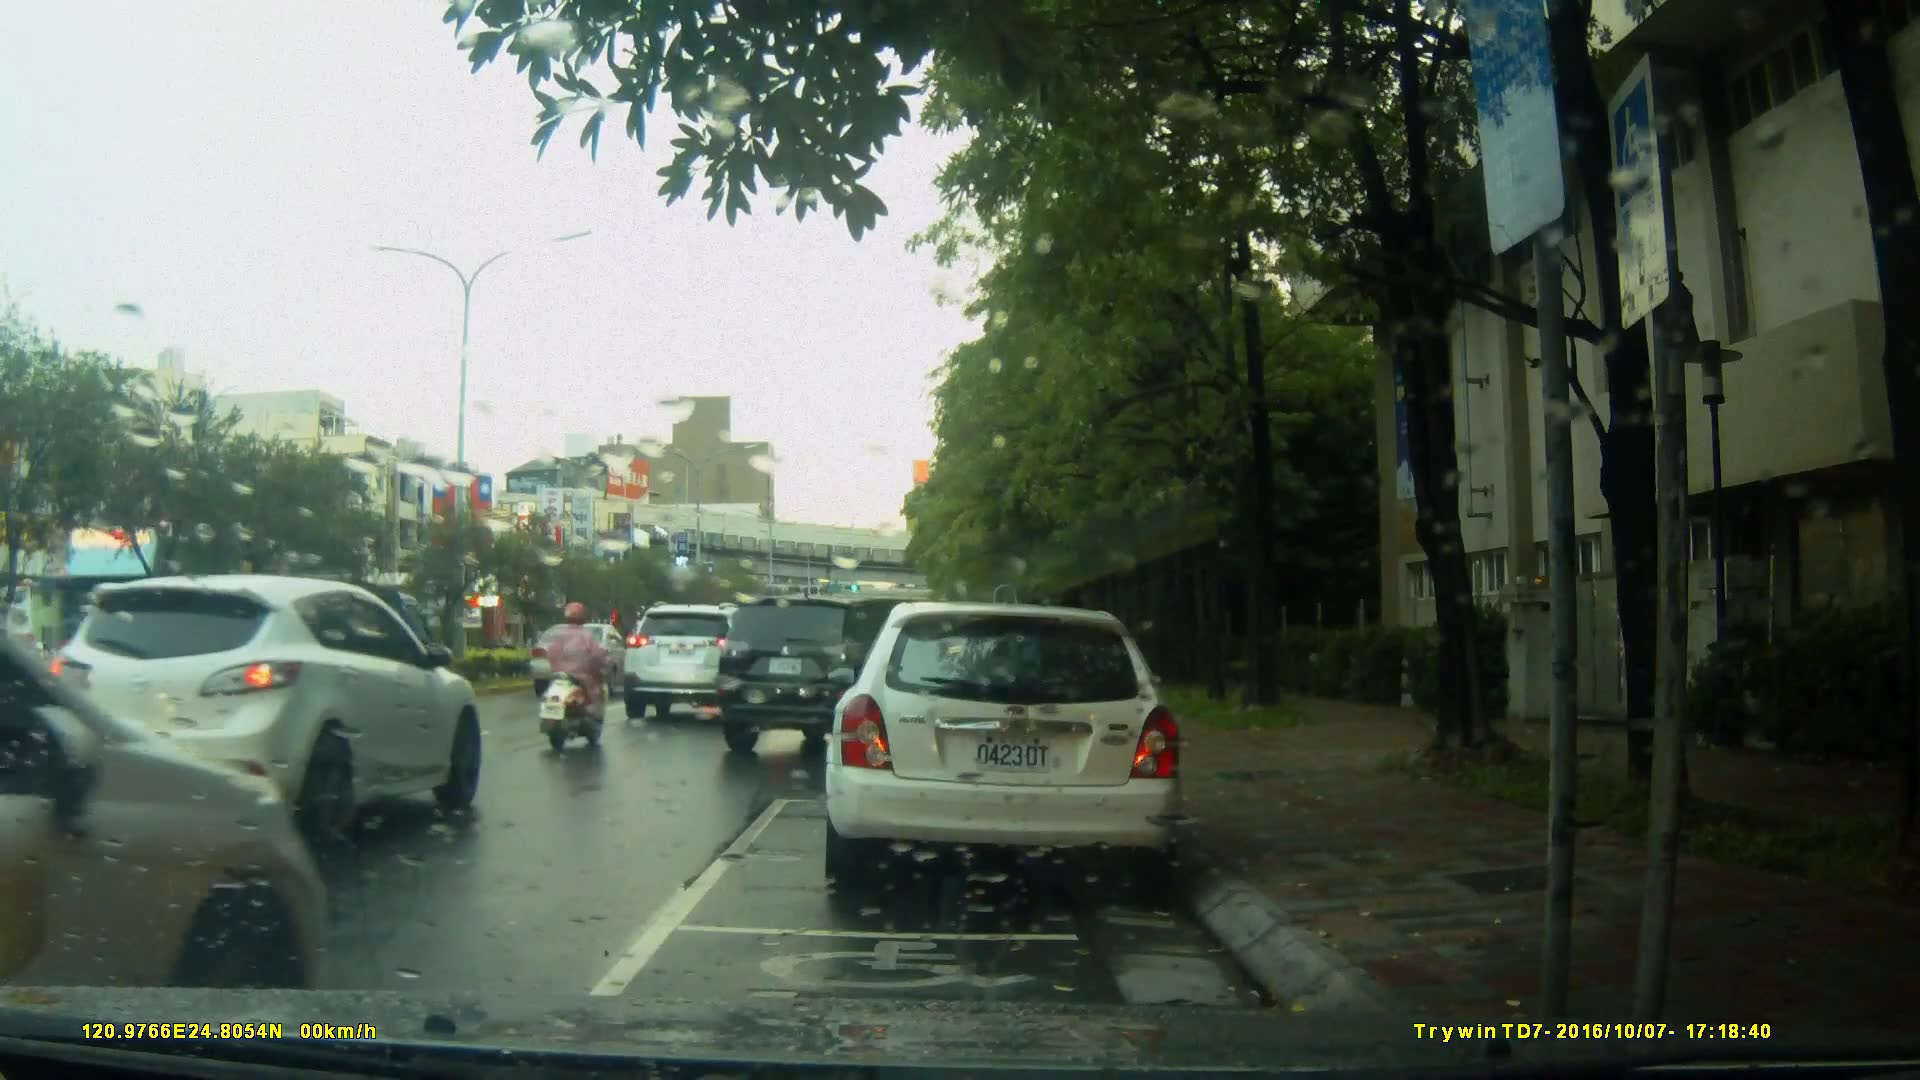rider: (541, 600, 618, 755)
vehicle: (39, 572, 484, 855), (820, 602, 1188, 898), (707, 594, 954, 759), (624, 603, 771, 723), (529, 620, 633, 699)
